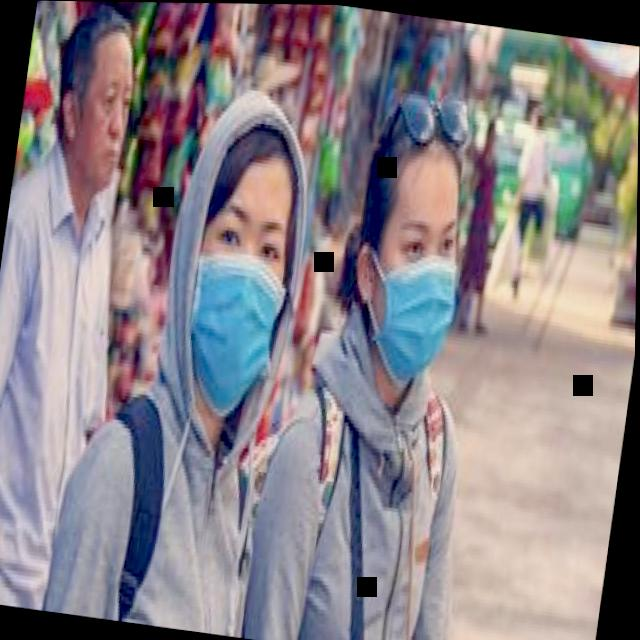Mask: (177, 159, 303, 414), (358, 168, 474, 387)
NO-Mask: (64, 41, 138, 190)
